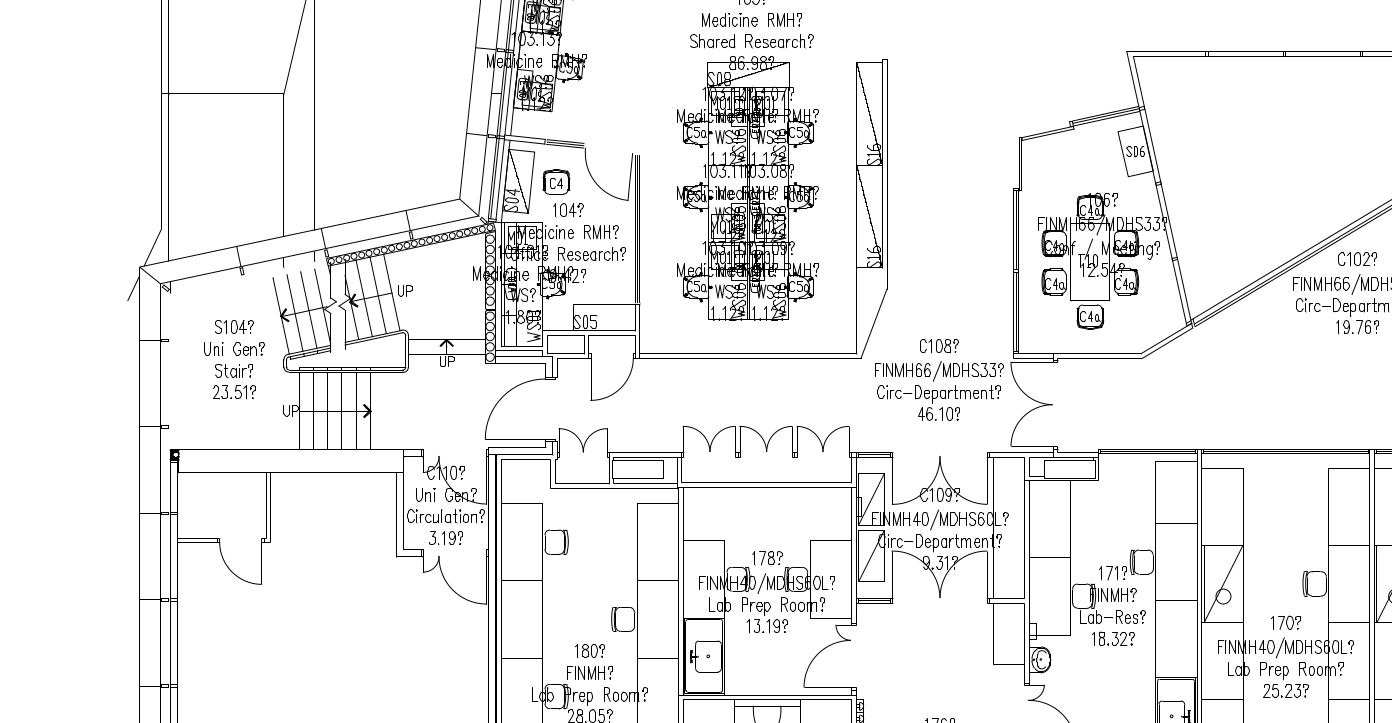door: (478, 372, 545, 445), (580, 140, 635, 206), (438, 448, 489, 511), (576, 358, 638, 407), (890, 448, 940, 507), (941, 449, 991, 508), (939, 543, 989, 602), (890, 548, 940, 607), (800, 640, 852, 690), (214, 533, 263, 586), (439, 552, 488, 605), (1009, 359, 1061, 405), (1004, 404, 1056, 450), (766, 416, 797, 463), (794, 416, 825, 463), (820, 416, 851, 463), (680, 417, 710, 459), (709, 420, 739, 462), (738, 420, 768, 462), (557, 416, 583, 458), (583, 417, 609, 459), (415, 543, 440, 574), (828, 623, 857, 646), (1024, 682, 1050, 705)
